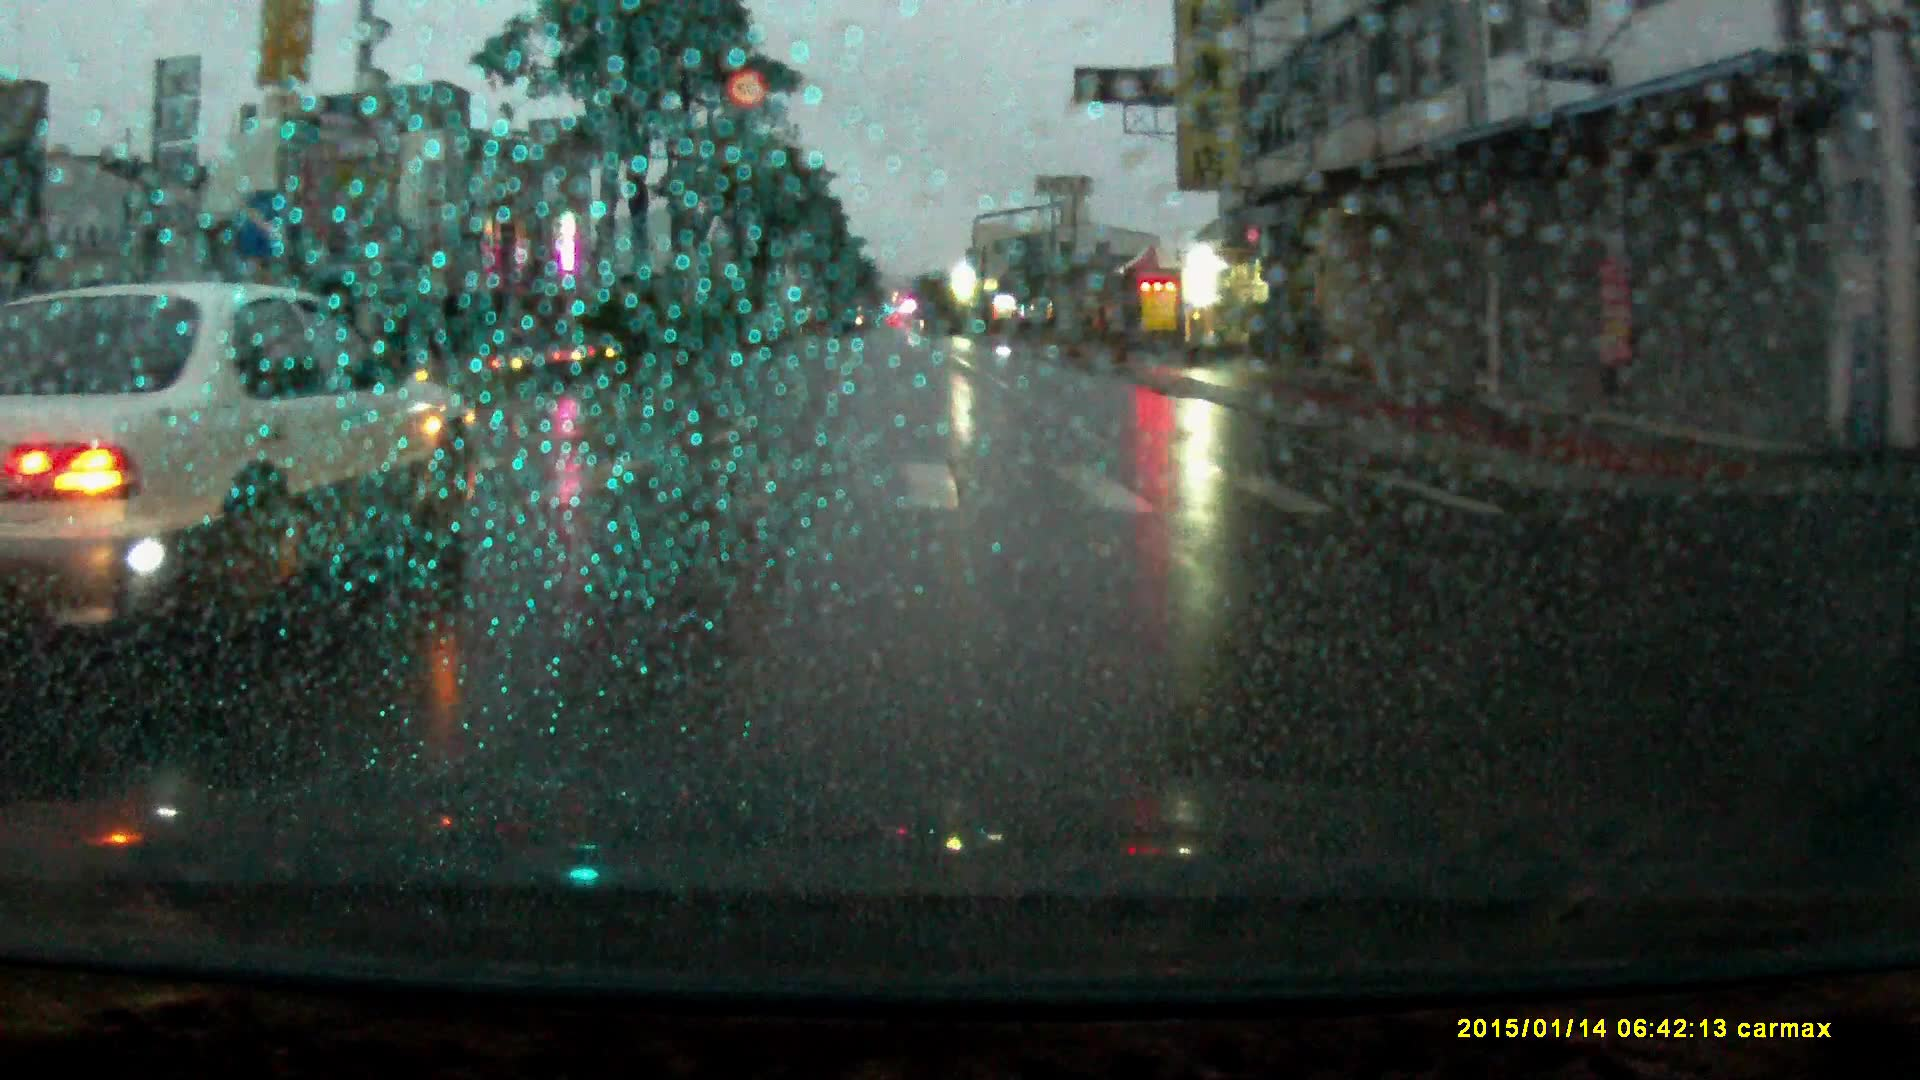vehicle: (1, 286, 487, 645)
